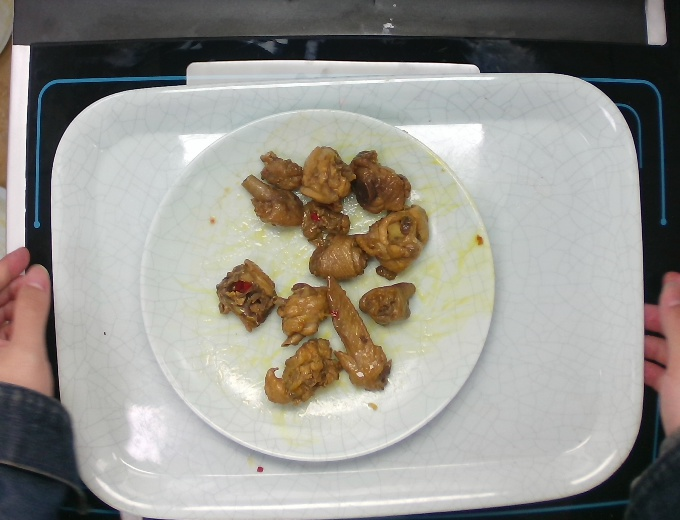JYsf-Da_Yuan_Pan: (134, 106, 500, 468)
